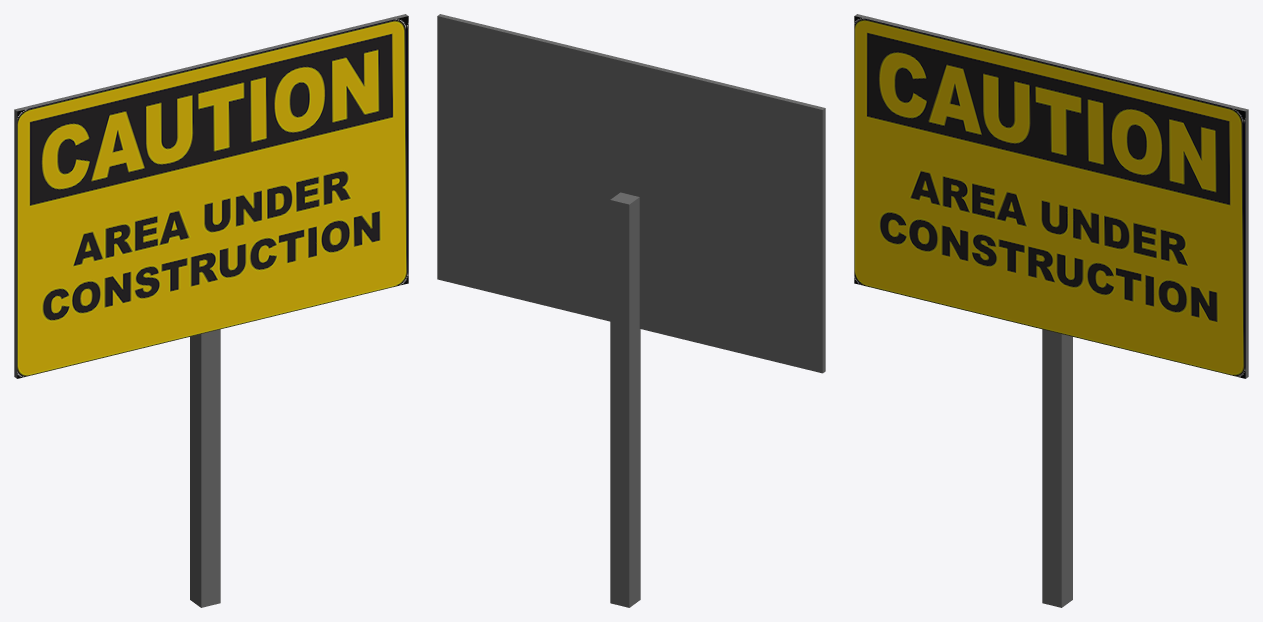
Rendered from constructionSign.glb.
The picture shows the model from 3 angles, left to right: view 1: azimuth 30°, elevation 25°; view 2: azimuth 150°, elevation 25°; view 3: azimuth 330°, elevation 25°; orthographic projection.
Parts seen in each view (by area): view 1: Cube; view 2: Cube; view 3: Cube.
Boxes of the visible parts, left/top/right/bottom form: Cube: left=14, top=14, right=408, bottom=607; Cube: left=437, top=14, right=825, bottom=607; Cube: left=854, top=14, right=1248, bottom=607.
Bounding box in the file's own units: 2 × 2.65 × 0.1172.
2 materials, 1 textured.
